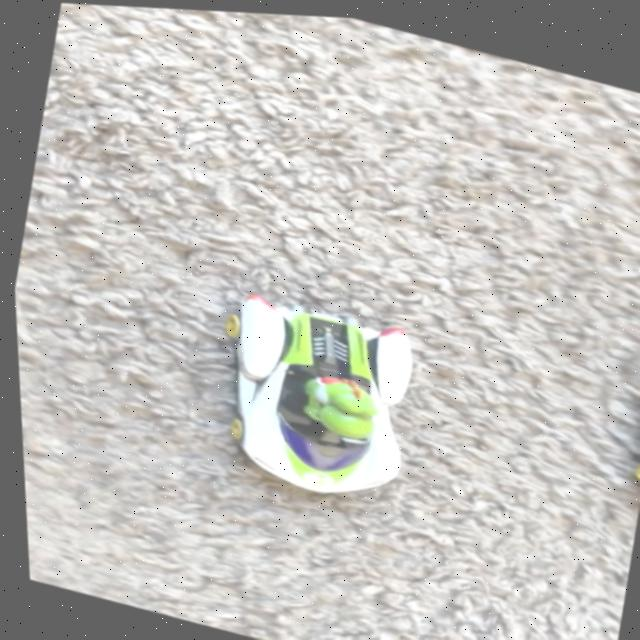yoshi: (189, 266, 445, 527)
